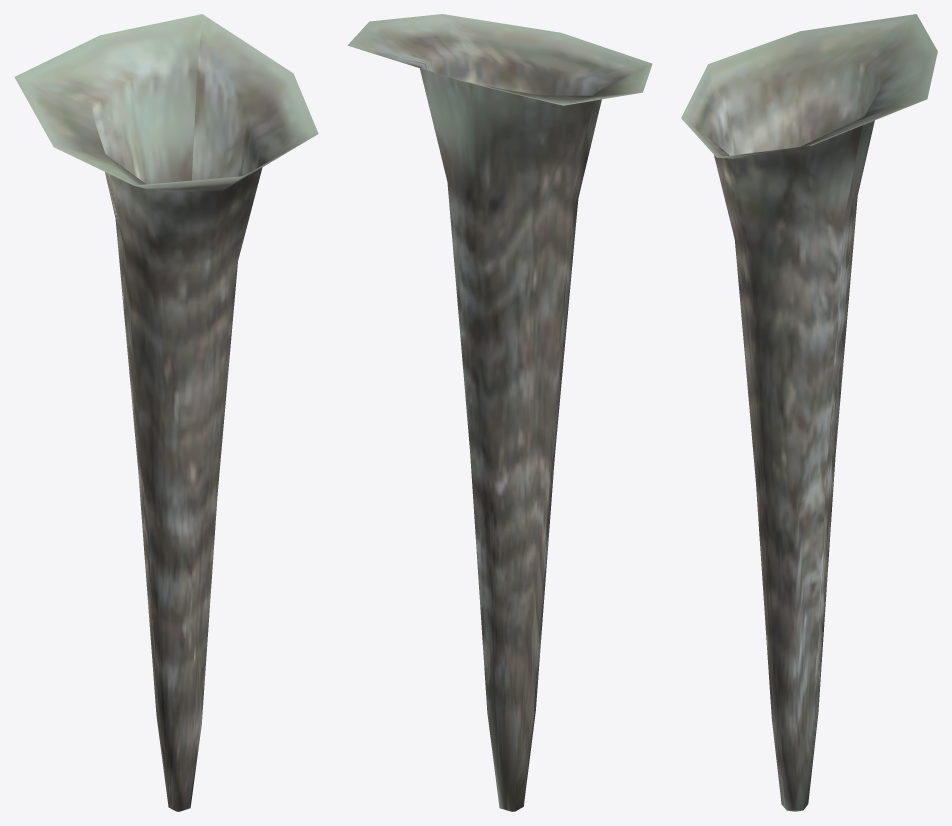
File: TROLLHOLE02_PS-MAINSTALAG14.fbx
3 views of the same model, side by side, from view 1: azimuth 30°, elevation 25°; view 2: azimuth 150°, elevation 25°; view 3: azimuth 270°, elevation 25° (orthographic). The views are drawn at different scales.
Parts seen in each view (by area): view 1: TROLLHOLE02_PS-MAINSTALAG14; view 2: TROLLHOLE02_PS-MAINSTALAG14; view 3: TROLLHOLE02_PS-MAINSTALAG14.
Boxes of the visible parts, left/top/right/bottom form: TROLLHOLE02_PS-MAINSTALAG14: left=14, top=14, right=318, bottom=811; TROLLHOLE02_PS-MAINSTALAG14: left=347, top=14, right=652, bottom=811; TROLLHOLE02_PS-MAINSTALAG14: left=681, top=14, right=937, bottom=811.
Bounding box in the file's own units: 19849 × 56351 × 17337.
1 material, 1 textured.
